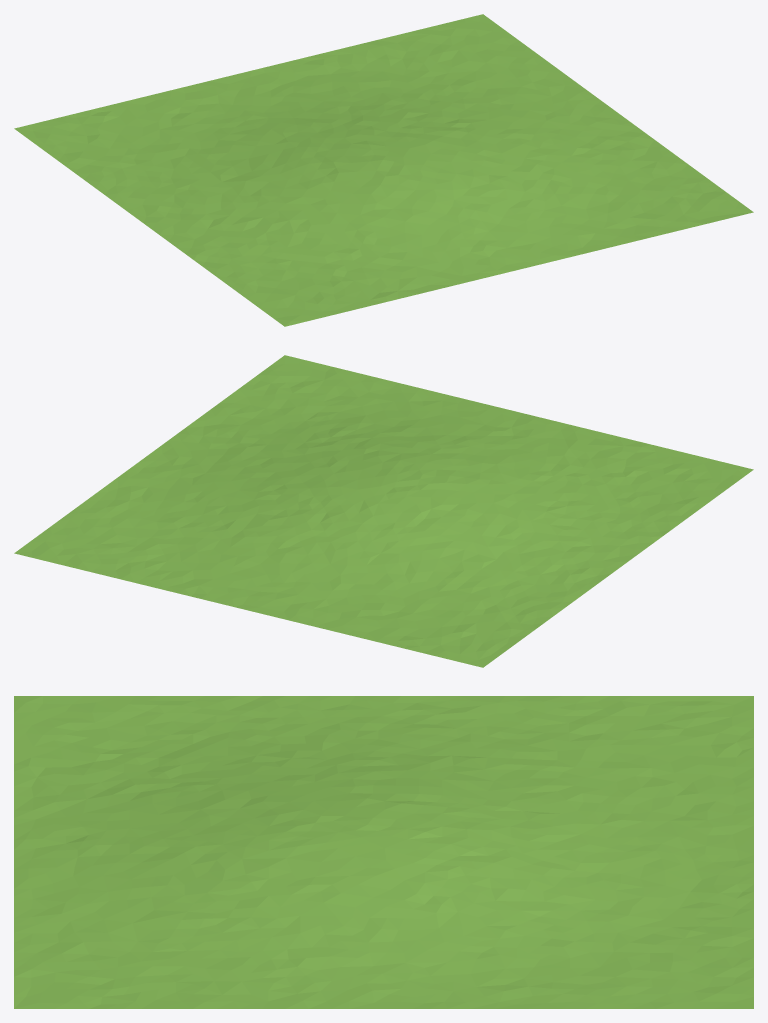
Rendered from MT_Terrain_L_a_03_LOD.fbx.
The picture shows the model from 3 angles, top to bottom: view 1: azimuth 30°, elevation 25°; view 2: azimuth 150°, elevation 25°; view 3: azimuth 270°, elevation 25°; orthographic projection. The views are drawn at different scales.
Parts seen in each view (by area): view 1: MT_Terrain_L_a_03_LOD0; view 2: MT_Terrain_L_a_03_LOD0; view 3: MT_Terrain_L_a_03_LOD0.
Boxes of the visible parts, x1,y1,x2,y2 form: MT_Terrain_L_a_03_LOD0: (14,14,753,326); MT_Terrain_L_a_03_LOD0: (14,355,753,667); MT_Terrain_L_a_03_LOD0: (14,696,753,1008).
Size of what is drawn, in the model's own units: 10000 by 351 by 10001.
